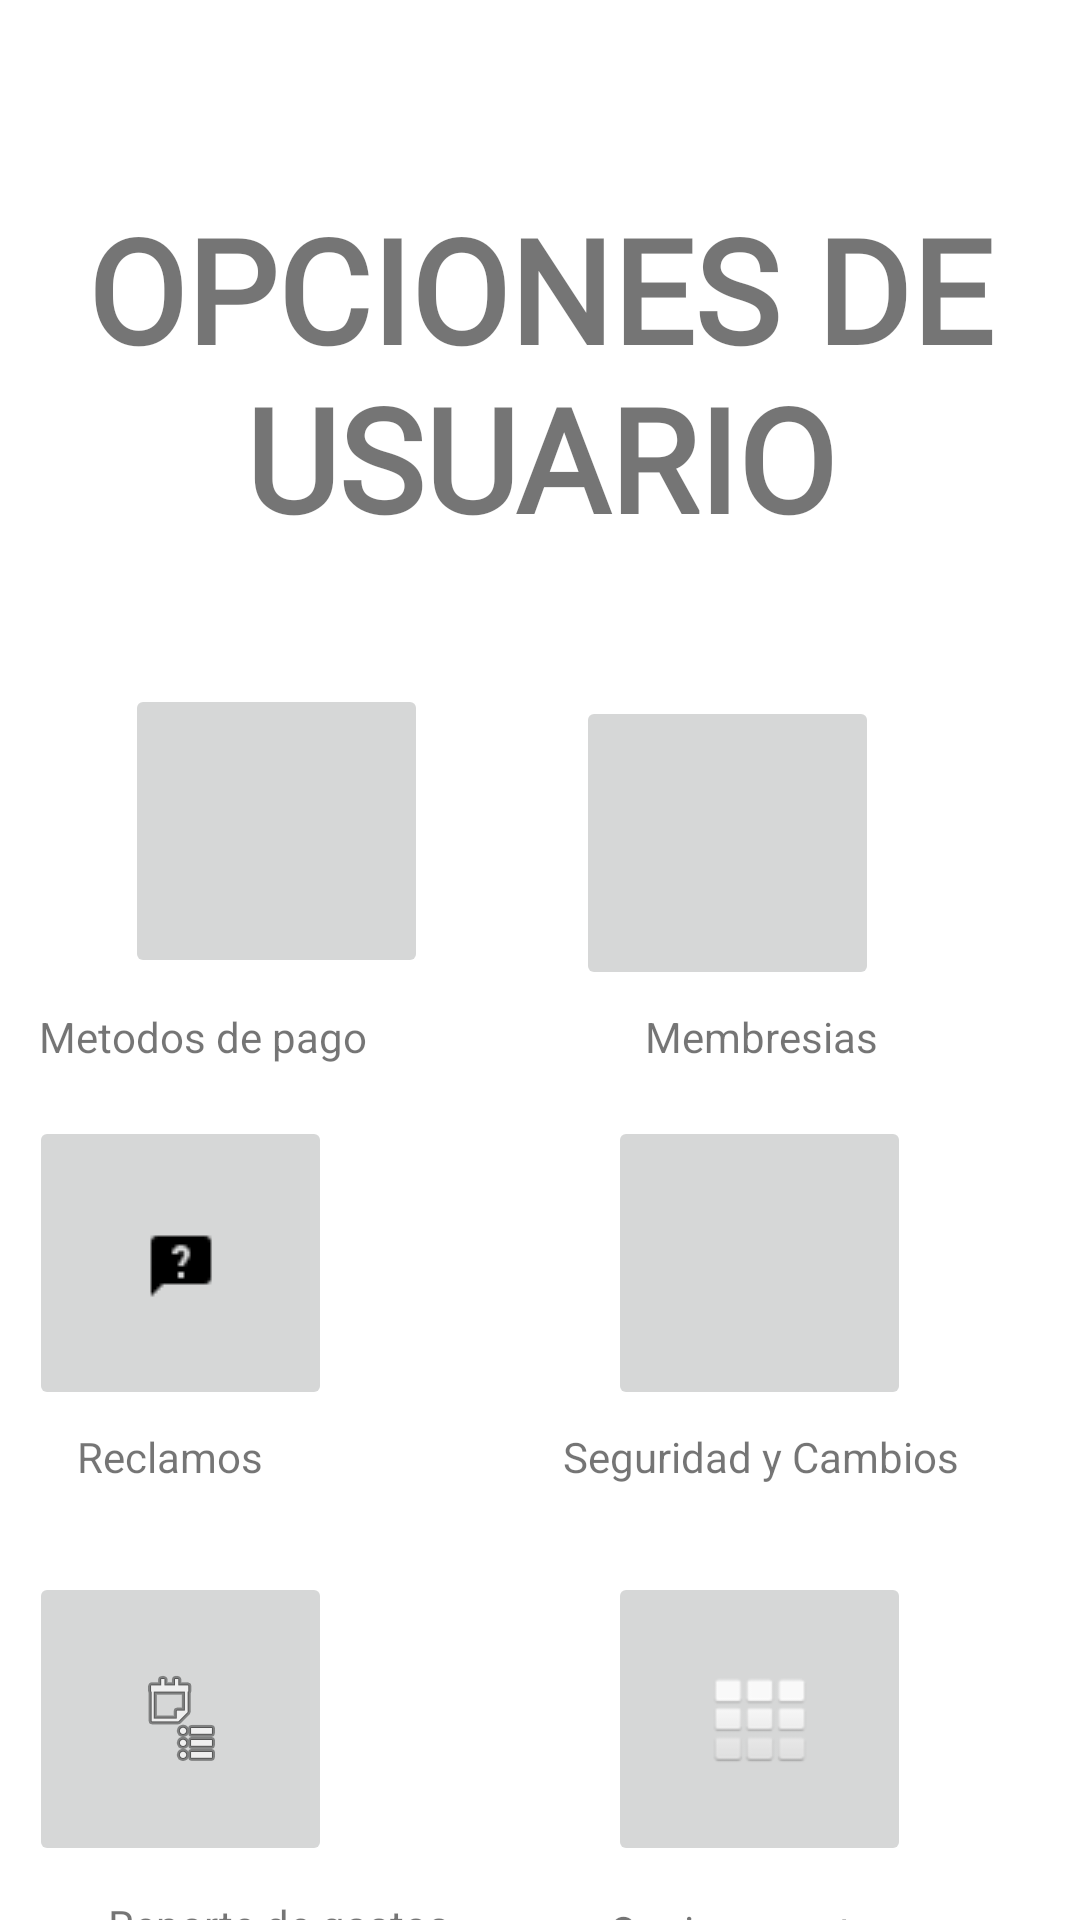

Icon click points for this 1080×1920 phone screenshot, format (x,y):
agenda: (180,1719)
